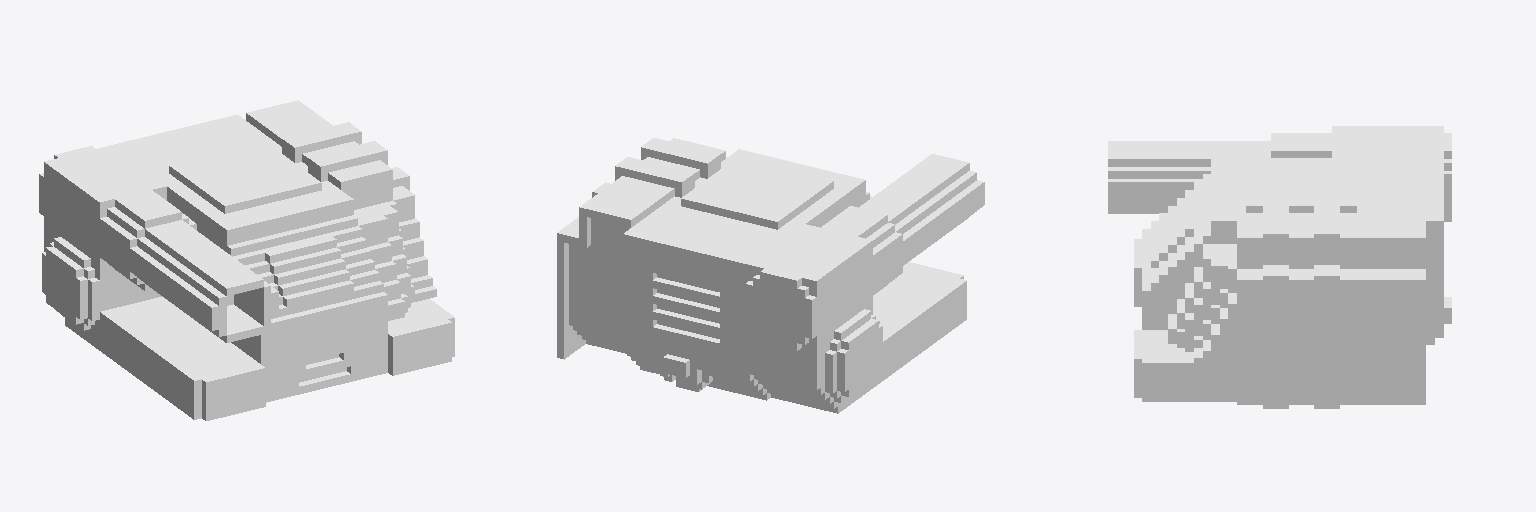
File: Cannon.obj
The picture shows the model from 3 angles: view 1: azimuth 30°, elevation 25°; view 2: azimuth 150°, elevation 25°; view 3: azimuth 270°, elevation 25°; orthographic projection.
Bounding box in the file's own units: 39 × 21 × 40.